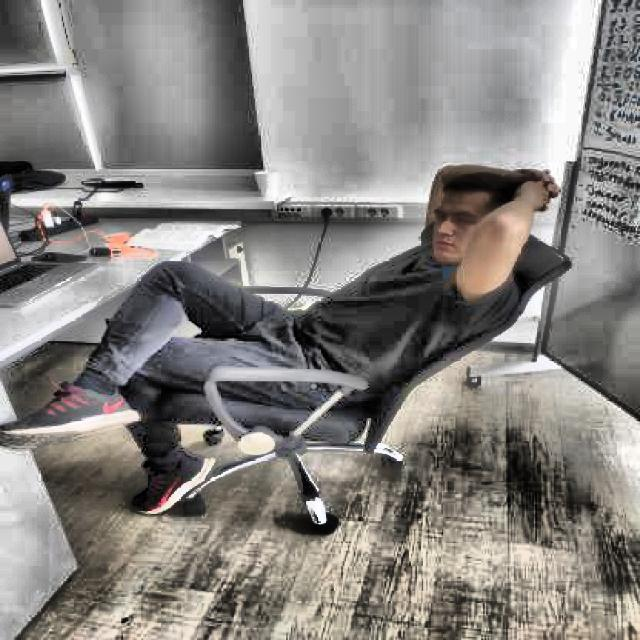cadeira: (137, 220, 568, 535)
